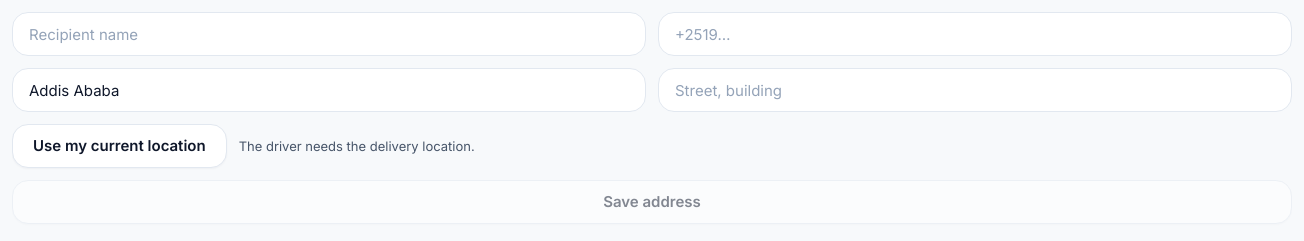
new delivery address (Work 105) › explains a refused location and does not save
The image size is (1304, 241).
Type "Selam" into the field labelled "Recipient name" at (329, 34), box [12,12,646,56]
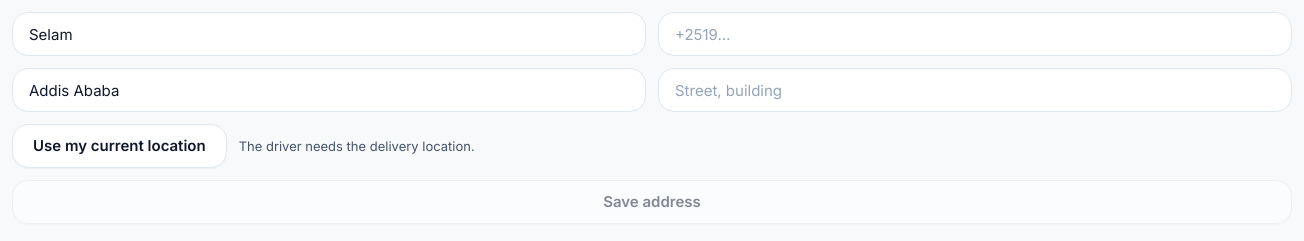
Type "+251911000111" into the field named "Recipient phone" at (975, 34), box [658,12,1292,56]
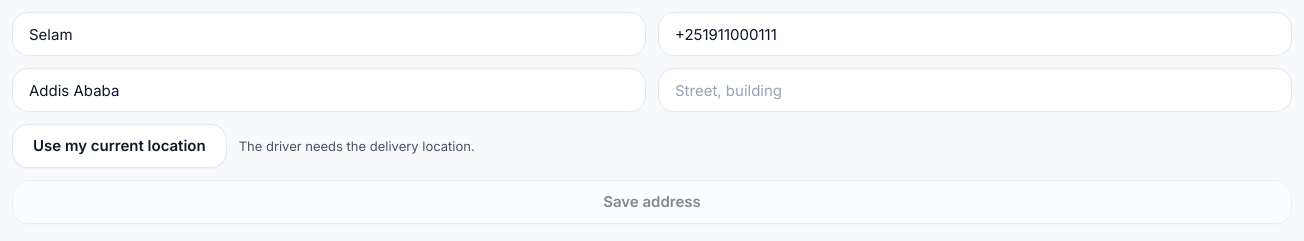
Type "Bole Road 12" into the field named "Street and building" at (975, 90), box [658,68,1292,112]
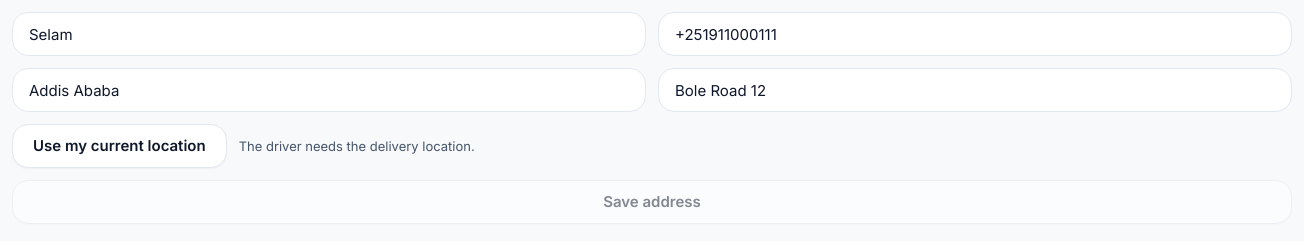
Click the button "Use my current location" at (119, 146), box [12,124,227,168]
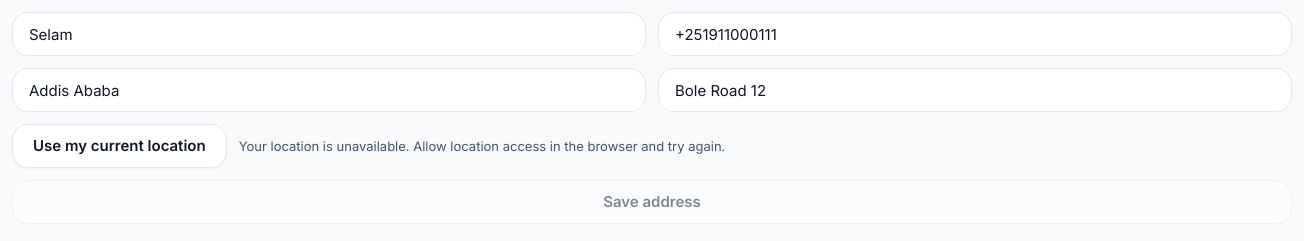
Expected: the button "Save address" is disabled, [12,180,1292,224]
Expected: the text "Your location is unavailable" is shown, [239,138,725,154]
